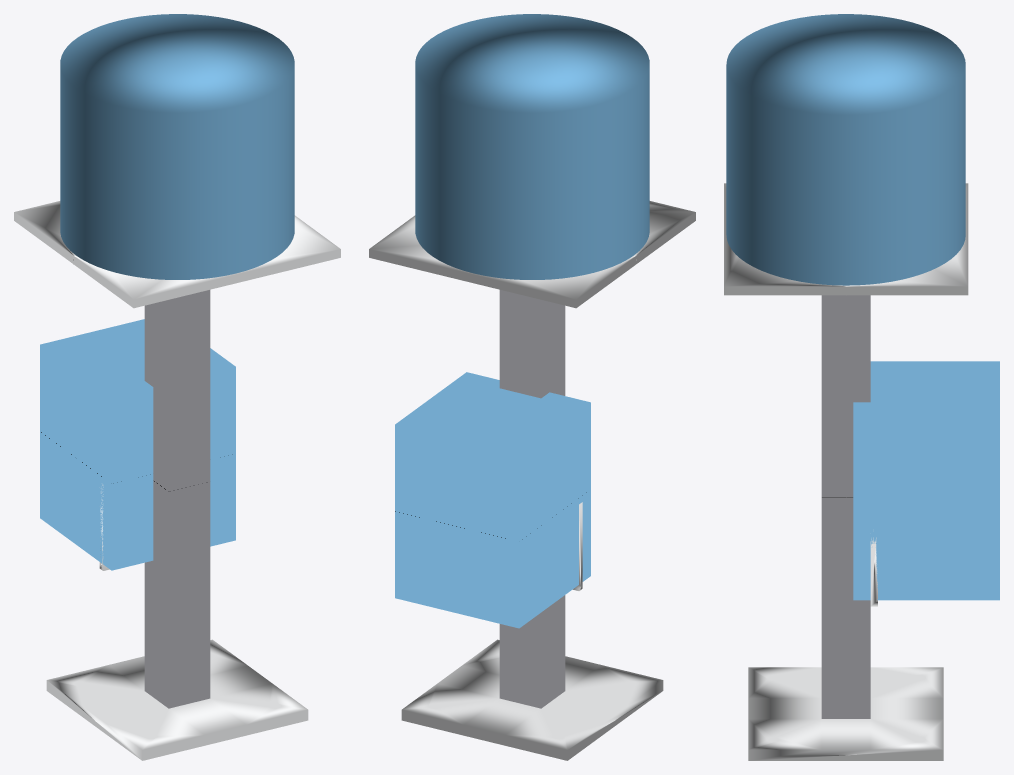
The model's file is sensor-mast.glb.
The picture shows the model from 3 angles, left to right: view 1: azimuth 30°, elevation 25°; view 2: azimuth 150°, elevation 25°; view 3: azimuth 270°, elevation 25°; orthographic projection. The views are drawn at different scales.
Parts seen in each view (by area): view 1: Livox Mid-360, reCamera Gimbal, Vertical Mast, Base Plate, Lidar Mount Plate; view 2: Livox Mid-360, reCamera Gimbal, Base Plate, Vertical Mast, Lidar Mount Plate; view 3: Livox Mid-360, reCamera Gimbal, Vertical Mast, Base Plate, Lidar Mount Plate, Gimbal Bracket.
Part boxes in pixels (<box>): Livox Mid-360: <box>60,14,294,279</box>; reCamera Gimbal: <box>40,319,235,570</box>; Vertical Mast: <box>144,290,210,708</box>; Base Plate: <box>46,639,308,760</box>; Lidar Mount Plate: <box>14,201,340,308</box>; Livox Mid-360: <box>415,14,649,279</box>; reCamera Gimbal: <box>395,372,590,628</box>; Base Plate: <box>401,639,663,760</box>; Vertical Mast: <box>499,290,565,708</box>; Lidar Mount Plate: <box>369,201,695,308</box>; Livox Mid-360: <box>726,14,965,285</box>; reCamera Gimbal: <box>853,361,999,600</box>; Vertical Mast: <box>821,295,870,718</box>; Base Plate: <box>748,667,943,760</box>; Lidar Mount Plate: <box>724,183,968,295</box>; Gimbal Bracket: <box>870,537,877,606</box>.
Size of the model in its own units: 100 by 296 by 113.
